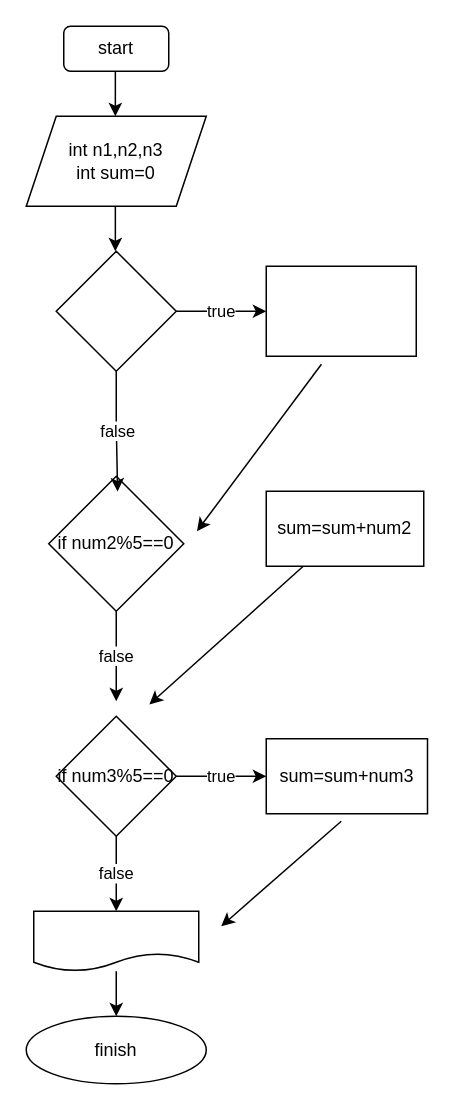
Image size: 455x1110. Some labels were removed from this diagram. Here are the shapes that lost their labels. From the top down, the centre of each, then its label:
At (115,310): "if n1%5==0".
At (340,310): "sum=sum+num1".
At (115,940): "sum".
